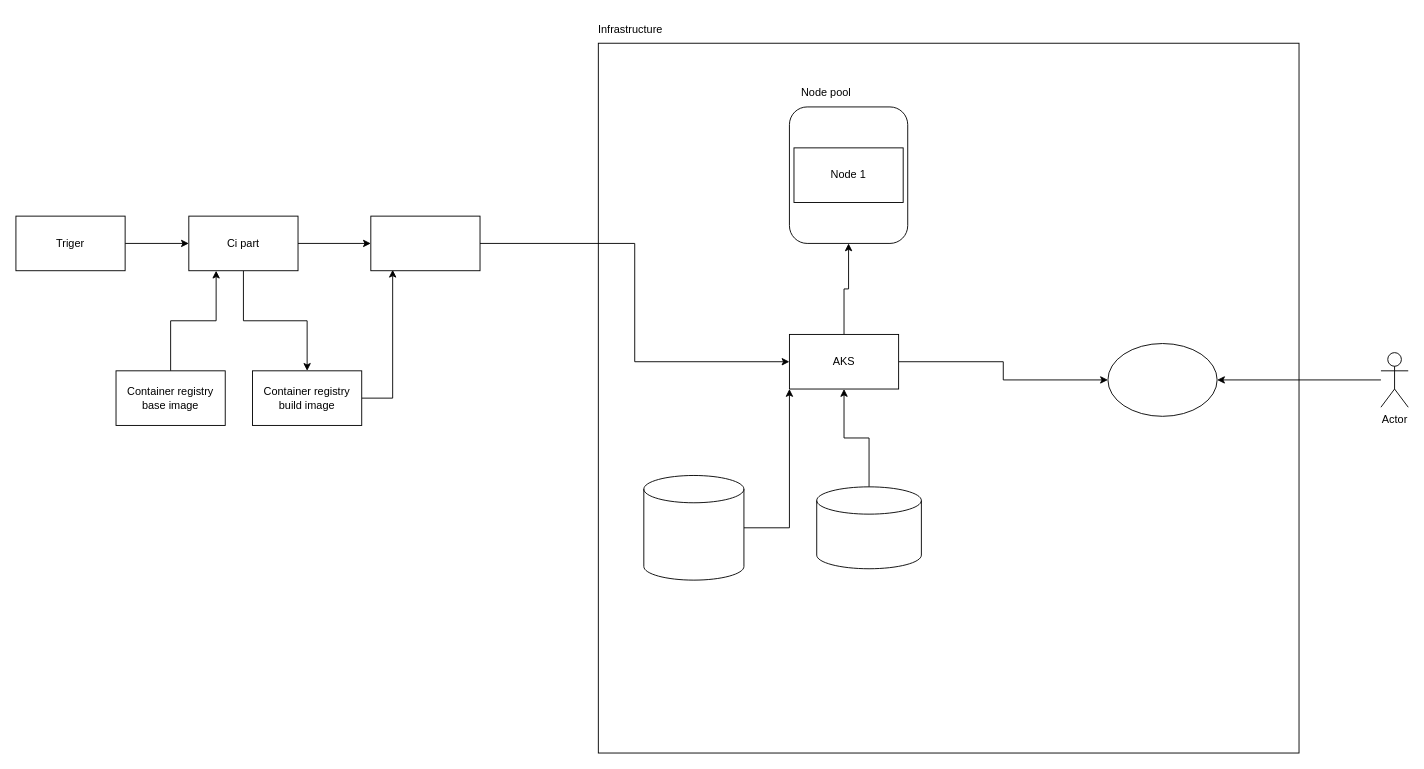
Some shapes in this 1424 by 769 pixel diagram are drawn without their labels. Each missing label, with the centre of its shape:
Azure for mysql db: [868,527]
Azure monitor: [693,527]
CD part: [425,243]
http://dev.awsops.ml: [1162,379]
